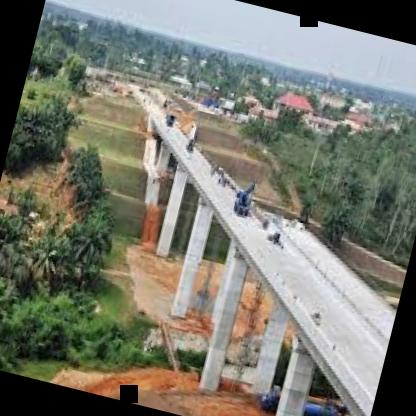car: (223, 177, 262, 224), (162, 109, 180, 127)
